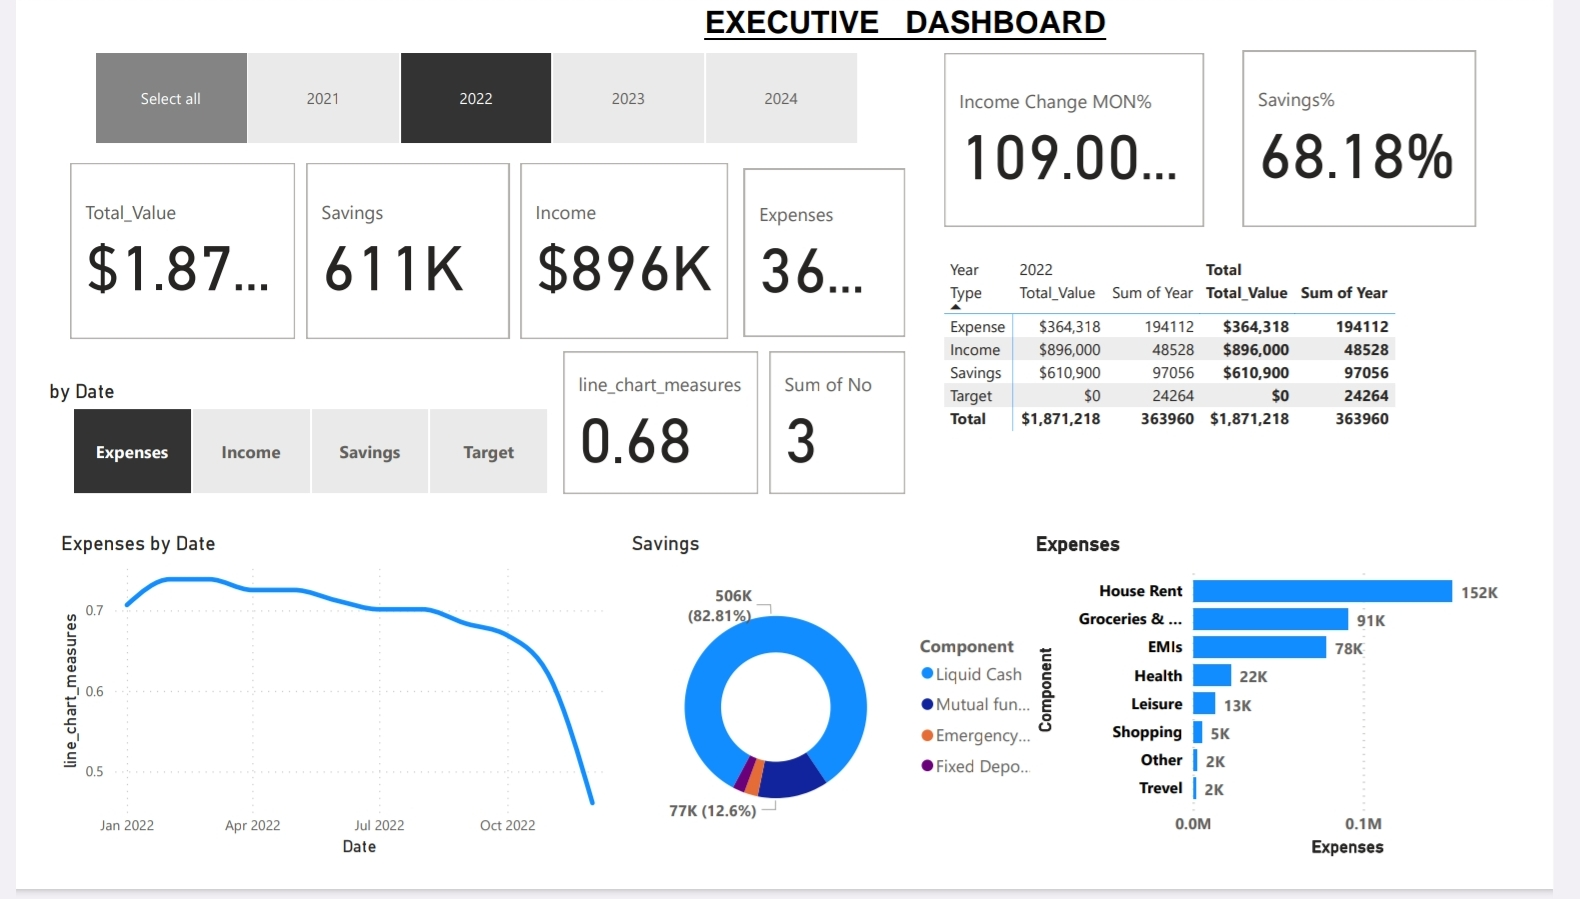

What the dashboard file says about the page in this screenshot:
{"tool":"powerbi","page":{"name":"Page 1","canvas":[1280,720],"ordinal":0},"visuals":[{"type":"cardVisual","fields":{"Data":["DAX Measures.Total_Value"]},"box":[18,112,204,162],"z":0},{"type":"cardVisual","fields":{"Data":["DAX Measures.Income"]},"box":[407.3,111.6,189.9,162.3],"z":1000},{"type":"cardVisual","fields":{"Data":["DAX Measures.Savings"]},"box":[221.8,111.6,185.5,162.3],"z":2000},{"type":"cardVisual","fields":{"Data":["DAX Measures.Expenses"]},"box":[600.1,117.4,149.3,155.1],"z":3000},{"type":"cardVisual","fields":{"Data":["DAX Measures.Savings%"]},"box":[1030.9,15.1,211.2,162.6],"z":4000},{"type":"slicer","fields":{"Values":["Dataset_for_Finance.Year"]},"box":[18.5,14.8,707.4,90.7],"z":5000},{"type":"donutChart","title":"Savings ","fields":{"Y":["DAX Measures.Savings"],"Category":["Dataset_for_Finance.Component"]},"box":[481.1,435.8,388.9,285],"z":6000},{"type":"donutChart","title":"Expenses","fields":{"Y":["DAX Measures.Expenses"],"Category":["Dataset_for_Finance.Component"]},"box":[871.6,435.8,409,285],"z":7000},{"type":"pivotTable","fields":{"Rows":["Dataset_for_Finance.Type","Dataset_for_Finance.Component"],"Values":["DAX Measures.Total_Value","Sum(Dataset_for_Finance.Year)"],"Columns":["Dataset_for_Finance.Year"]},"box":[772.7,194.4,474.4,241.4],"z":8000},{"type":"cardVisual","fields":{"Data":["DAX Measures.Income Change MON%"]},"box":[772.7,16.8,234.7,160.9],"z":9000},{"type":"lineChart","fields":{"Y":["DAX Measures.line_chart_measures"],"Category":["Dataset_for_Finance.Date"]},"box":[10.1,435.8,462.6,285],"z":10000},{"type":"slicer","fields":{"Values":["Line_Selection_table.Type"]},"box":[0,305.1,548.1,103.9],"z":11000},{"type":"cardVisual","fields":{"Data":["Sum(Line_Selection_table.No)"]},"box":[1076.1,353.7,171,120.7],"z":12000},{"type":"cardVisual","fields":{"Data":["DAX Measures.line_chart_measures"]},"box":[548.1,298.4,211.2,110.6],"z":13000}]}

Visuals, with their boxes in screenshot pixels (x1, y1, x2, y2), scaled from the page's 1280x720 canvas onto the 1580x899 screenshot:
cardVisual - DAX Measures.Total_Value: {"left": 22, "top": 140, "right": 274, "bottom": 342}
cardVisual - DAX Measures.Income: {"left": 503, "top": 139, "right": 737, "bottom": 342}
cardVisual - DAX Measures.Savings: {"left": 274, "top": 139, "right": 503, "bottom": 342}
cardVisual - DAX Measures.Expenses: {"left": 741, "top": 147, "right": 925, "bottom": 340}
cardVisual - DAX Measures.Savings%: {"left": 1273, "top": 19, "right": 1533, "bottom": 222}
slicer - Dataset_for_Finance.Year: {"left": 23, "top": 18, "right": 896, "bottom": 132}
"Savings " donutChart: {"left": 594, "top": 544, "right": 1074, "bottom": 898}
"Expenses" donutChart: {"left": 1076, "top": 544, "right": 1579, "bottom": 898}
pivotTable - Dataset_for_Finance.Type x Dataset_for_Finance.Component: {"left": 954, "top": 243, "right": 1539, "bottom": 544}
cardVisual - DAX Measures.Income Change MON%: {"left": 954, "top": 21, "right": 1244, "bottom": 222}
lineChart - DAX Measures.line_chart_measures x Dataset_for_Finance.Date: {"left": 12, "top": 544, "right": 583, "bottom": 898}
slicer - Line_Selection_table.Type: {"left": 0, "top": 381, "right": 677, "bottom": 511}
cardVisual - Sum(Line_Selection_table.No): {"left": 1328, "top": 442, "right": 1539, "bottom": 592}
cardVisual - DAX Measures.line_chart_measures: {"left": 677, "top": 373, "right": 937, "bottom": 511}
